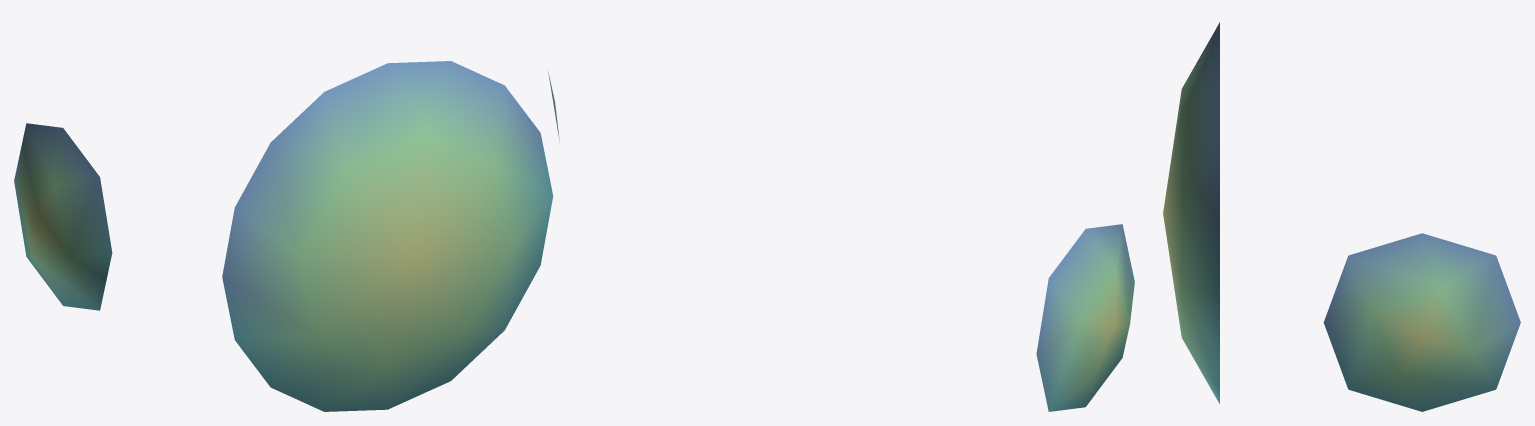
File: DivingMarketGreenGlass_1.glb
The picture shows the model from 3 angles, left to right: view 1: azimuth 30°, elevation 25°; view 2: azimuth 150°, elevation 25°; view 3: azimuth 270°, elevation 25°; orthographic projection.
Parts seen in each view (by area): view 1: DivingMarketGreenGlass; view 2: DivingMarketGreenGlass; view 3: DivingMarketGreenGlass.
Part boxes in pixels (<box>): DivingMarketGreenGlass: <box>14,61,559,411</box>; DivingMarketGreenGlass: <box>1036,224,1134,411</box>; DivingMarketGreenGlass: <box>1163,22,1520,411</box>.
Size of the model in its own units: 0.9915 by 0.6485 by 0.6048.
